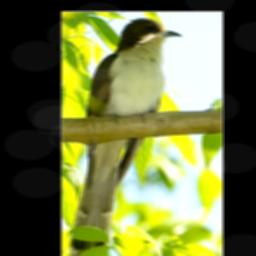Cuckoo: (67, 17, 182, 256)
